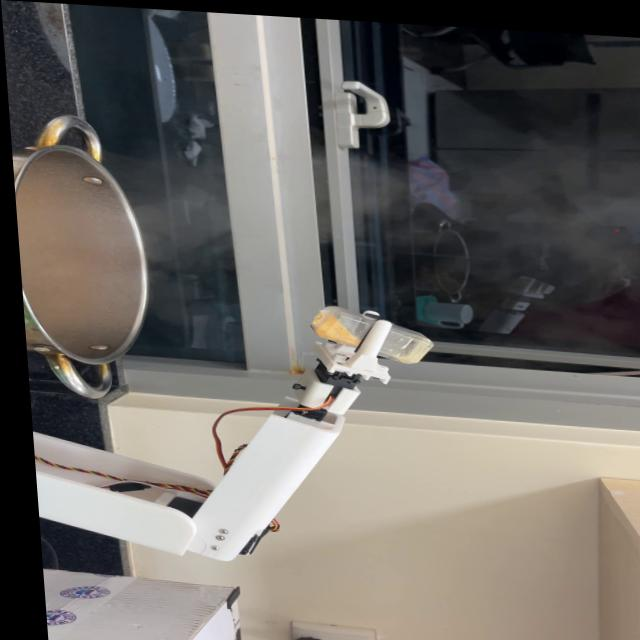cooking_pot: (7, 112, 155, 400)
curry_powder: (301, 308, 360, 344)
